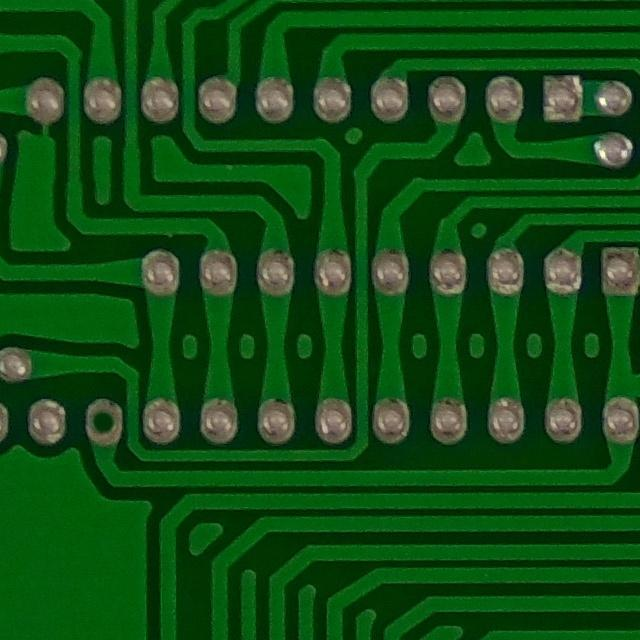missing_hole: (75, 393, 133, 449)
